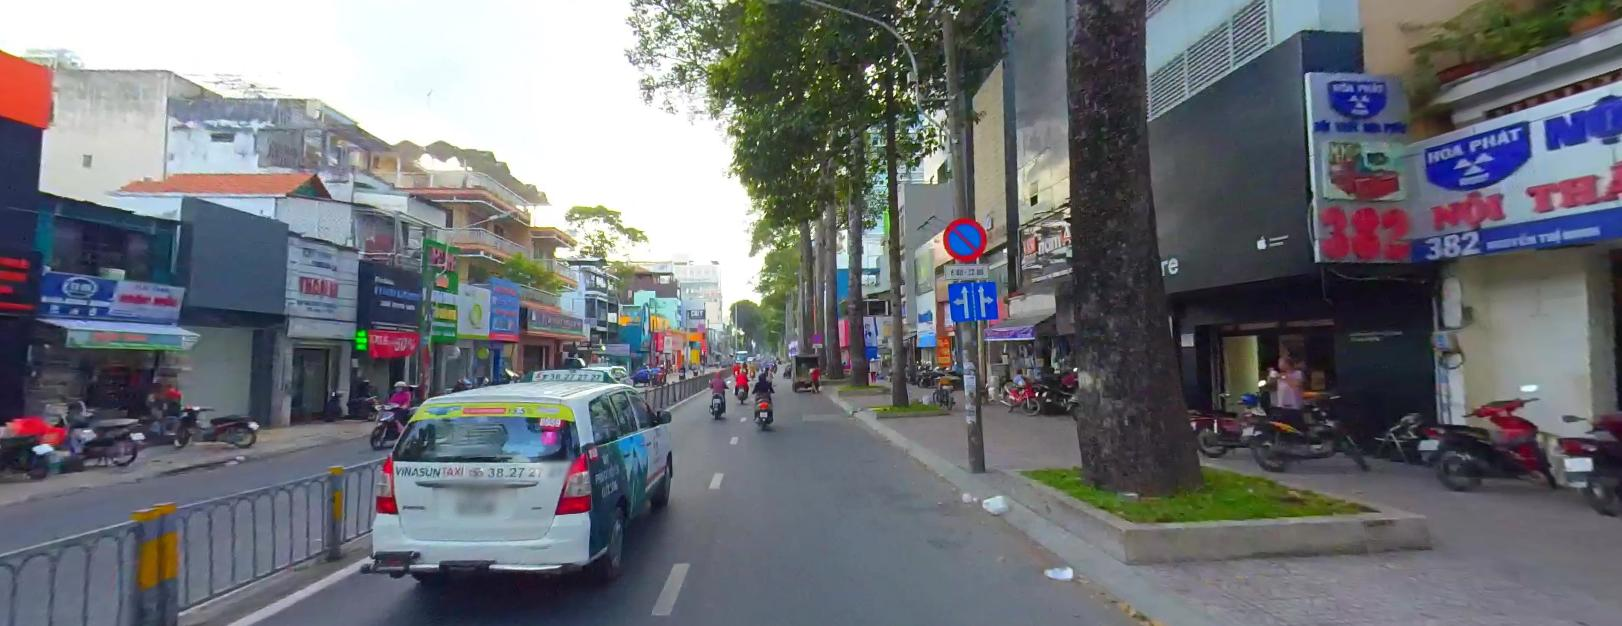Cam dung va do: (940, 212, 987, 260), (811, 331, 823, 342)
